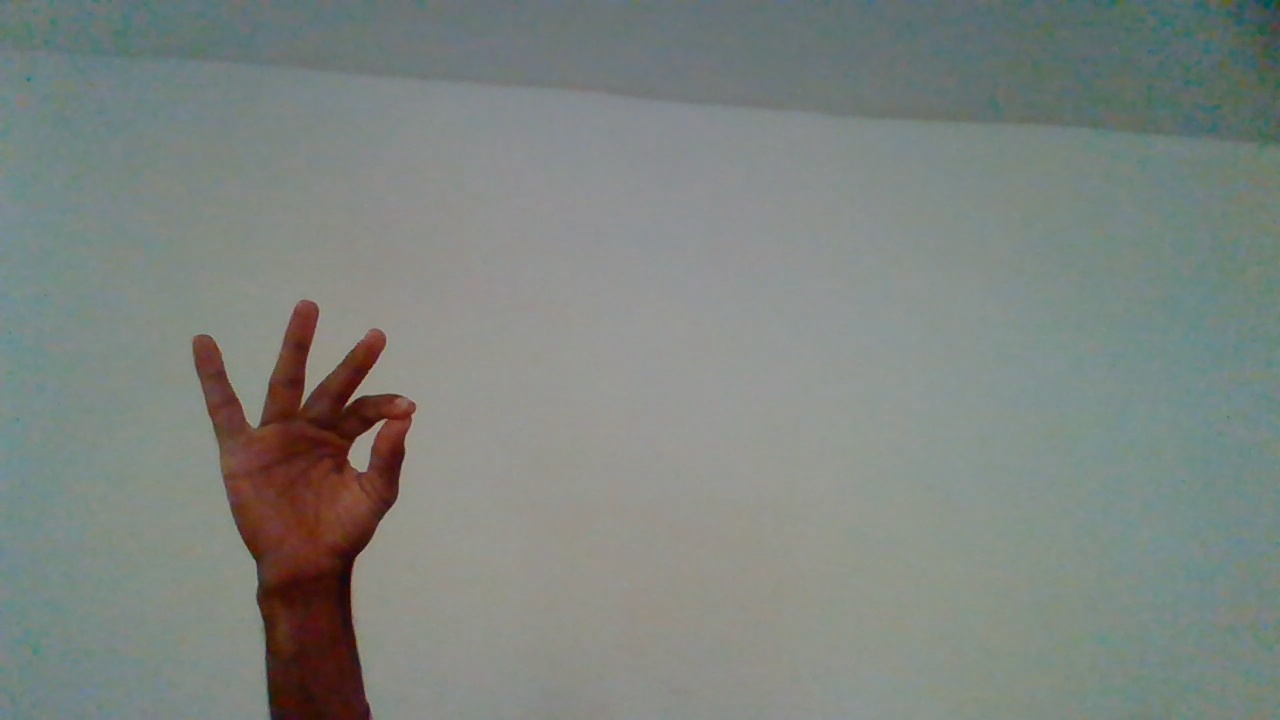le: (191, 301, 419, 708)
